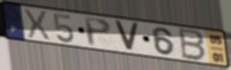5: (52, 12, 76, 44)
6: (151, 26, 176, 57)
B: (178, 27, 208, 63)
P: (83, 16, 114, 49)
V: (113, 19, 141, 53)
X: (23, 7, 52, 43)
